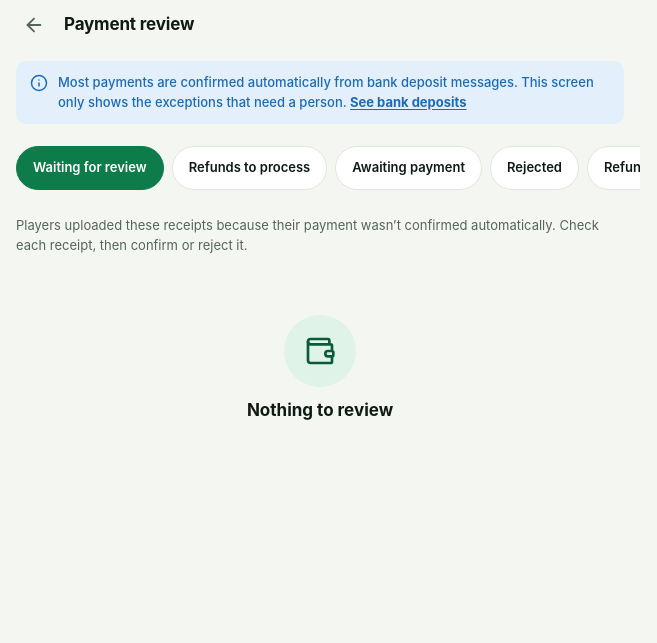
payment review: the queue › never shows database values, only catalog text
The width and height of the screenshot is (657, 643).
Click the button "Rejected" at (534, 168), box [490,146,579,190]
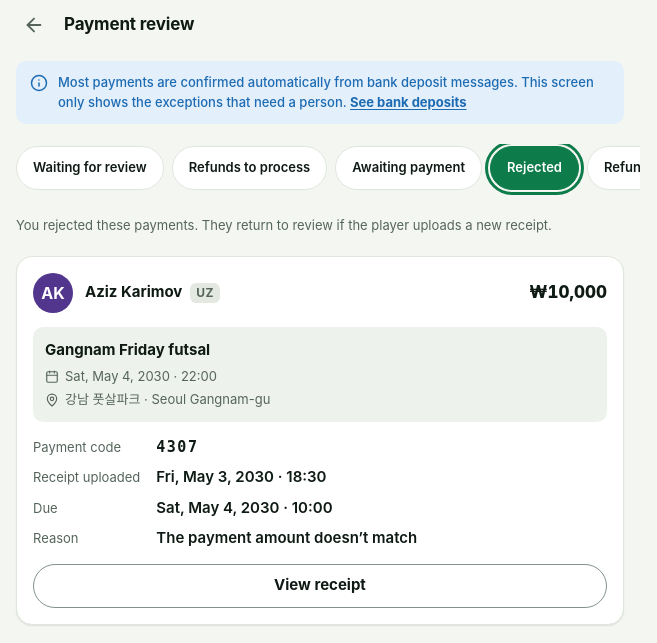
Check: the text "The payment amount doesn’t match" is shown, box [156,528,417,547]
